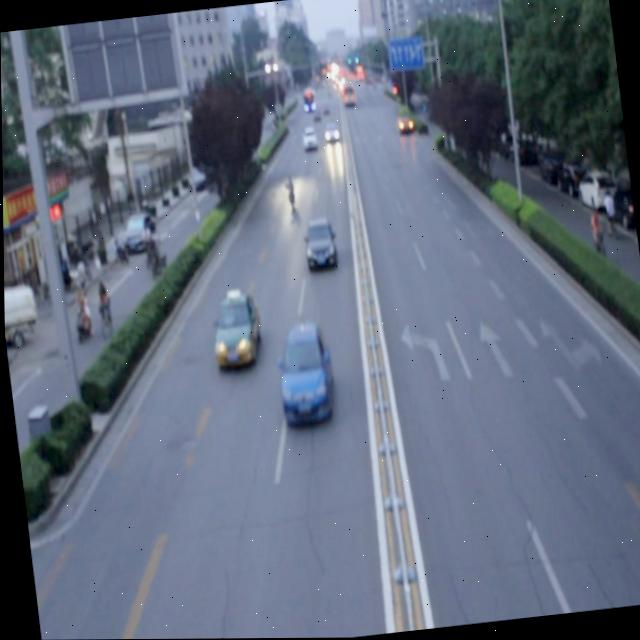car: (269, 316, 336, 428), (207, 287, 263, 370), (299, 215, 337, 272)
